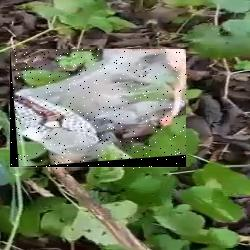plastic: (10, 50, 186, 169)
